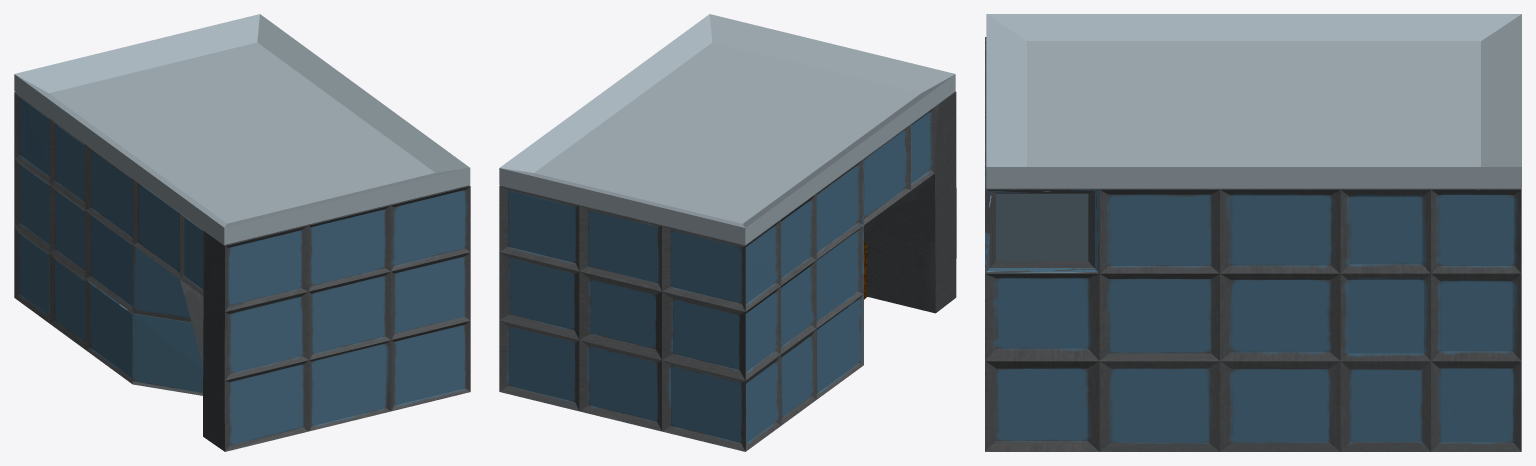
The model's file is SmallOffice.fbx.
The picture shows the model from 3 angles, left to right: view 1: azimuth 30°, elevation 25°; view 2: azimuth 150°, elevation 25°; view 3: azimuth 270°, elevation 25°; orthographic projection. The views are drawn at different scales.
Visible parts, largest first — view 1: BaseBuilding, Roof; view 2: BaseBuilding, Roof; view 3: BaseBuilding, Roof.
Part boxes in pixels (x1,y1,x2,y2): BaseBuilding: (14,92,470,451); Roof: (14,14,470,244); BaseBuilding: (499,91,956,451); Roof: (499,14,955,244); BaseBuilding: (985,37,1521,451); Roof: (986,14,1521,188).
Size of the model in its own units: 1504 by 1305 by 2227.
Materials: 3 (3 with a texture image).
